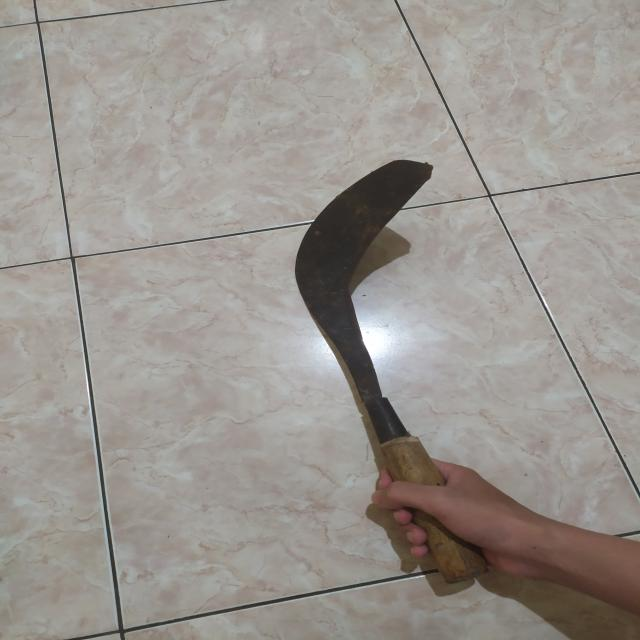Celurit: (298, 160, 481, 595)
